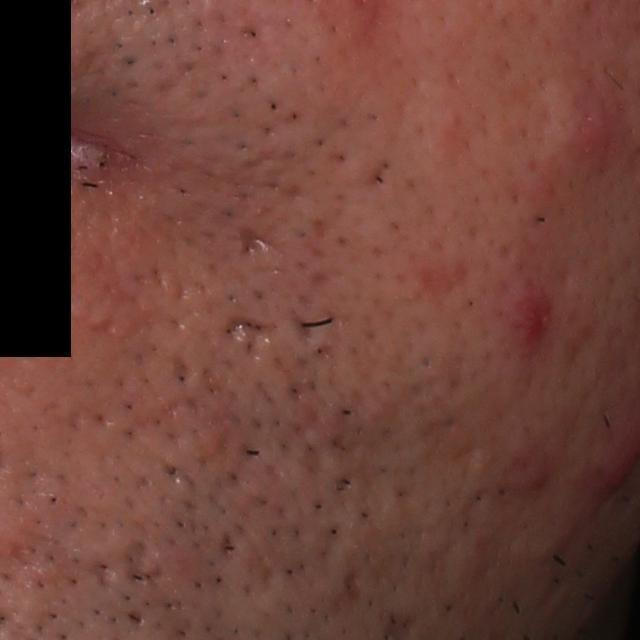atrophic_scar: (120, 530, 168, 598), (237, 223, 282, 261), (224, 318, 282, 347)
papule: (544, 84, 625, 176), (501, 280, 556, 365), (501, 458, 565, 500)
